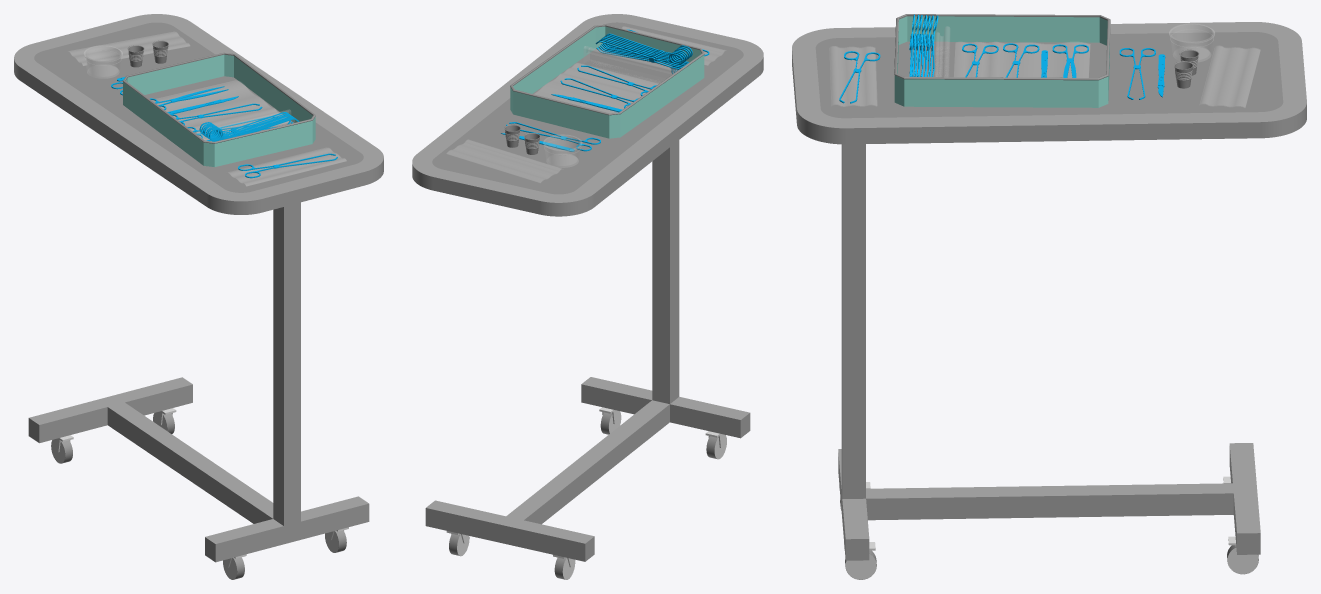
File: table.fbx
3 renders of one model, left to right at view 1: azimuth 30°, elevation 25°; view 2: azimuth 150°, elevation 25°; view 3: azimuth 270°, elevation 25°, orthographic. The views are drawn at different scales.
Visible parts, largest first — view 1: Table-Overbed_Reed Table-Overbed_Reed [160993]; view 2: Table-Overbed_Reed Table-Overbed_Reed [160993]; view 3: Table-Overbed_Reed Table-Overbed_Reed [160993].
Part boxes in pixels (box(x1,y1,x2,y2)): Table-Overbed_Reed Table-Overbed_Reed [160993]: box(14, 14, 383, 579); Table-Overbed_Reed Table-Overbed_Reed [160993]: box(412, 14, 763, 579); Table-Overbed_Reed Table-Overbed_Reed [160993]: box(792, 14, 1306, 579).
Size of the model in its own units: 53.87 by 119 by 110.
